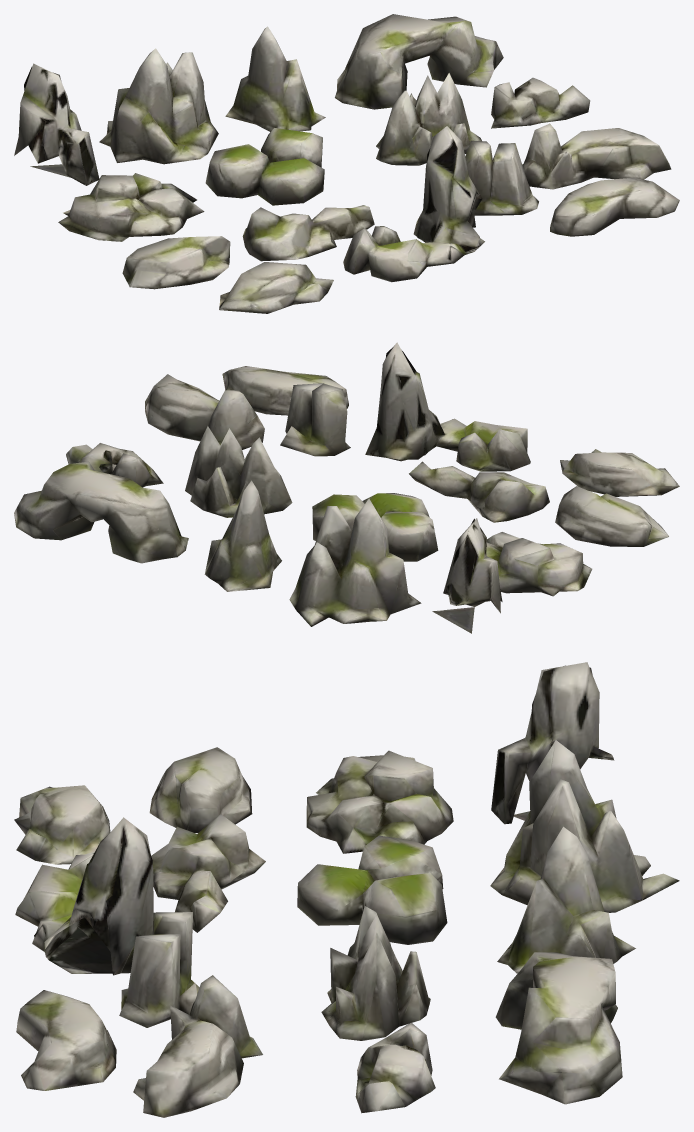
The model's file is scatter_b.glb.
The picture shows the model from 3 angles, top to bottom: view 1: azimuth 30°, elevation 25°; view 2: azimuth 150°, elevation 25°; view 3: azimuth 270°, elevation 25°; orthographic projection. The views are drawn at different scales.
Visible parts, largest first — view 1: scatter_b_03, scatter_b_00, scatter_b_01, scatter_b_09, scatter_b_06, scatter_b_02, scatter_b_05, scatter_b_10, scatter_b_04, scatter_b_08, scatter_b_11, scatter_b_12 (+3 smaller); view 2: scatter_b_03, scatter_b_01, scatter_b_00, scatter_b_04, scatter_b_06, scatter_b_10, scatter_b_02, scatter_b_12, scatter_b_08, scatter_b_09, scatter_b_13, scatter_b_05 (+3 smaller); view 3: scatter_b_03, scatter_b_00, scatter_b_01, scatter_b_09, scatter_b_02, scatter_b_06, scatter_b_10, scatter_b_04, scatter_b_05, scatter_b_11, scatter_b_08, scatter_b_13 (+3 smaller).
Part boxes in pixels (bbox=[...]): scatter_b_03: bbox=[335, 14, 503, 109]; scatter_b_00: bbox=[343, 126, 484, 282]; scatter_b_01: bbox=[99, 48, 218, 164]; scatter_b_09: bbox=[205, 128, 324, 205]; scatter_b_06: bbox=[522, 123, 671, 189]; scatter_b_02: bbox=[58, 173, 204, 241]; scatter_b_05: bbox=[14, 63, 99, 185]; scatter_b_10: bbox=[225, 26, 325, 131]; scatter_b_04: bbox=[376, 73, 481, 165]; scatter_b_08: bbox=[242, 205, 374, 261]; scatter_b_11: bbox=[550, 177, 679, 236]; scatter_b_12: bbox=[122, 236, 230, 289]; scatter_b_03: bbox=[14, 461, 188, 563]; scatter_b_01: bbox=[289, 498, 421, 626]; scatter_b_00: bbox=[365, 342, 530, 471]; scatter_b_04: bbox=[185, 426, 292, 517]; scatter_b_06: bbox=[145, 374, 264, 449]; scatter_b_10: bbox=[204, 480, 281, 591]; scatter_b_02: bbox=[486, 532, 592, 596]; scatter_b_12: bbox=[555, 486, 668, 546]; scatter_b_08: bbox=[409, 461, 549, 522]; scatter_b_09: bbox=[312, 493, 438, 561]; scatter_b_13: bbox=[280, 383, 350, 456]; scatter_b_05: bbox=[432, 518, 502, 633]; scatter_b_03: bbox=[495, 952, 622, 1104]; scatter_b_00: bbox=[15, 817, 153, 975]; scatter_b_01: bbox=[490, 740, 679, 912]; scatter_b_09: bbox=[297, 835, 447, 944]; scatter_b_02: bbox=[306, 750, 453, 853]; scatter_b_06: bbox=[133, 975, 262, 1117]; scatter_b_10: bbox=[497, 826, 635, 973]; scatter_b_04: bbox=[321, 906, 430, 1040]; scatter_b_05: bbox=[491, 662, 614, 824]; scatter_b_11: bbox=[16, 990, 116, 1090]; scatter_b_08: bbox=[151, 814, 265, 932]; scatter_b_13: bbox=[119, 912, 199, 1027].
Bounding box in the file's own units: 1.93 × 0.3733 × 1.54.
1 material, 1 textured.
